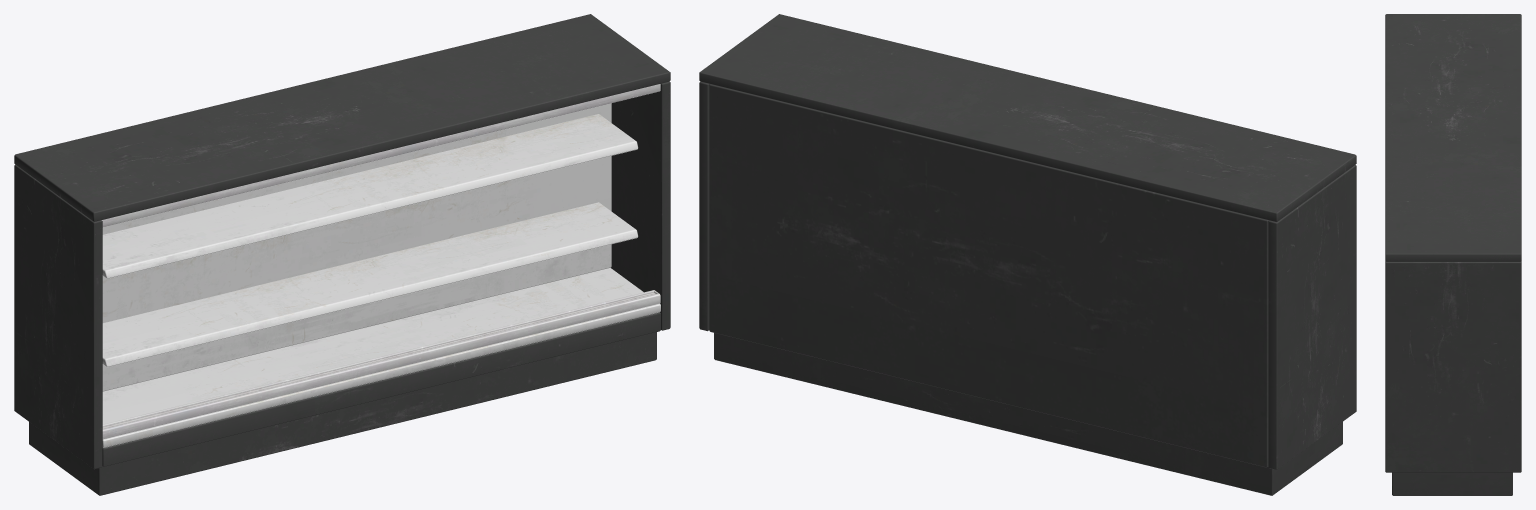
Rendered from SM_Gun_Display_02c.glb.
3 views of the same model, side by side, from view 1: azimuth 30°, elevation 25°; view 2: azimuth 150°, elevation 25°; view 3: azimuth 270°, elevation 25° (orthographic). The views are drawn at different scales.
Visible parts, largest first — view 1: SM_Gun_Display_02c; view 2: SM_Gun_Display_02c; view 3: SM_Gun_Display_02c.
Part boxes in pixels (x1=…): SM_Gun_Display_02c: x1=14, y1=14, x2=670, y2=495; SM_Gun_Display_02c: x1=699, y1=14, x2=1356, y2=495; SM_Gun_Display_02c: x1=1385, y1=14, x2=1521, y2=495.
Size of the model in its own units: 2.5 by 1.2 by 0.6.
Materials: 1 (1 with a texture image).
